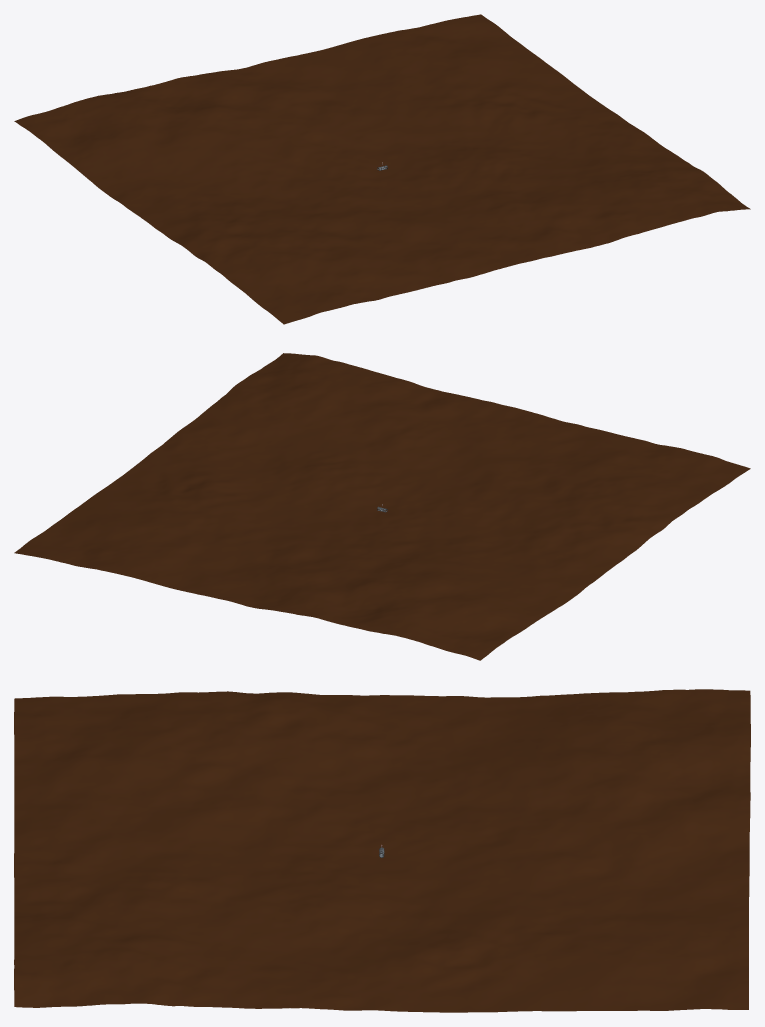
The model's file is LightCable.optimized.glb.
3 views of the same model, one above another, from view 1: azimuth 30°, elevation 25°; view 2: azimuth 150°, elevation 25°; view 3: azimuth 270°, elevation 25° (orthographic). The views are drawn at different scales.
Visible parts, largest first — view 1: SeaBottom; view 2: SeaBottom; view 3: SeaBottom.
Boxes of the visible parts, x1,y1,x2,y2 form: SeaBottom: [14, 14, 750, 324]; SeaBottom: [14, 353, 750, 660]; SeaBottom: [14, 689, 750, 1012].
Size of what is drawn, in the model's own units: 100 by 3.11 by 100.
4 materials, 3 textured.
